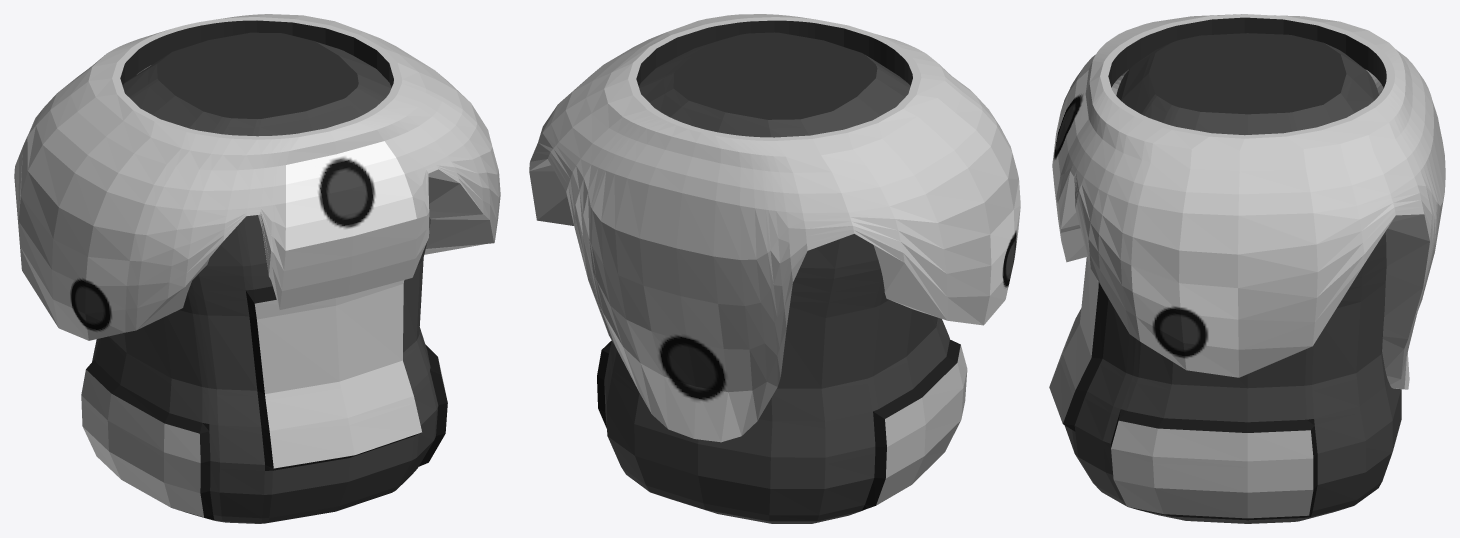
File: person_hulk_vacsuit.obj
The picture shows the model from 3 angles, left to right: view 1: azimuth 30°, elevation 25°; view 2: azimuth 150°, elevation 25°; view 3: azimuth 270°, elevation 25°; orthographic projection.
Bounding box in the file's own units: 0.8406 × 0.75 × 0.6763.
